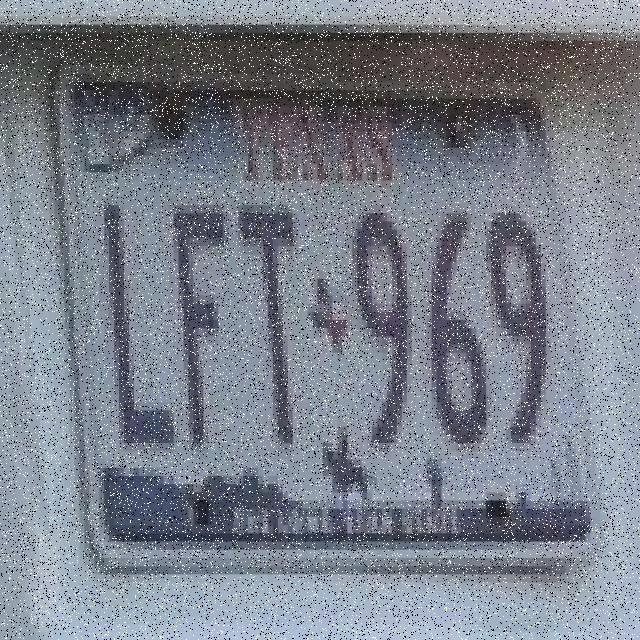licenseplate: (37, 32, 608, 592)
